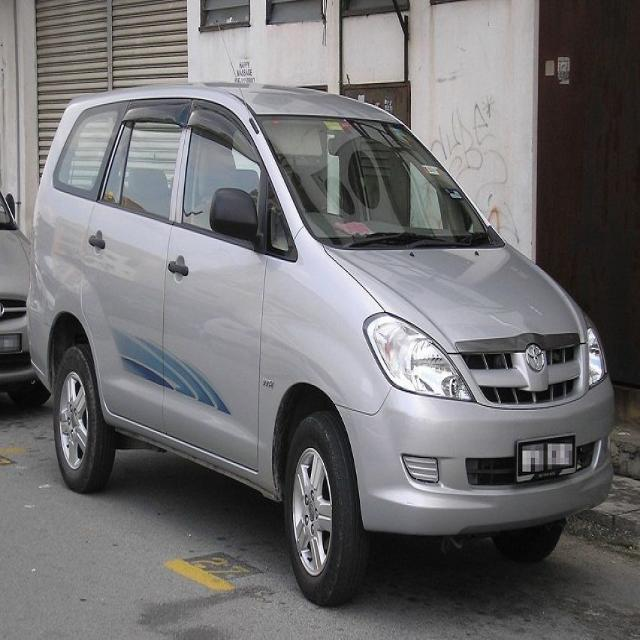light_vehicle: (26, 81, 616, 606)
